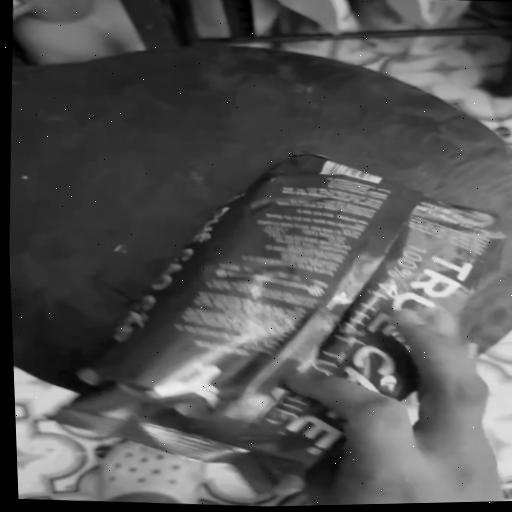cafe_xay: (53, 154, 506, 494)
